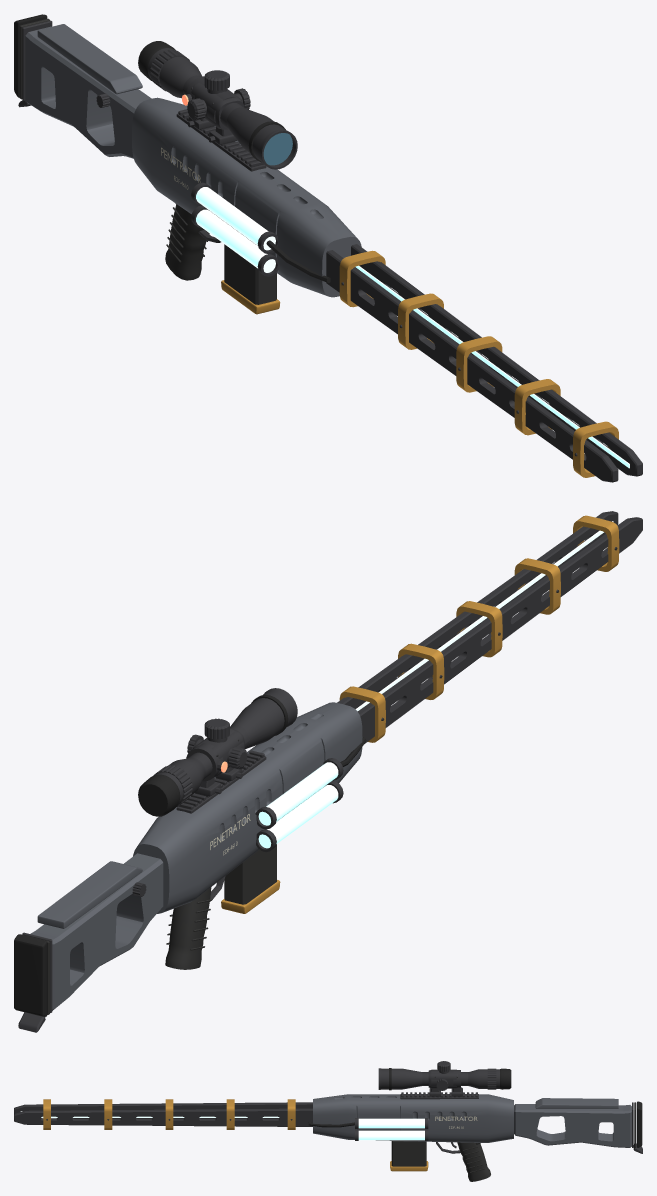
Rendered from penetrator.glb.
The picture shows the model from 3 angles, top to bottom: view 1: azimuth 30°, elevation 25°; view 2: azimuth 150°, elevation 25°; view 3: azimuth 270°, elevation 25°; orthographic projection. The views are drawn at different scales.
Parts seen in each view (by area): view 1: Body; view 2: Body; view 3: Body.
Boxes of the visible parts, x1=… form: Body: x1=14, y1=14, x2=642, y2=482; Body: x1=14, y1=511, x2=642, y2=1032; Body: x1=14, y1=1061, x2=642, y2=1181.
Bounding box in the file's own units: 0.1144 × 0.2954 × 1.44.
